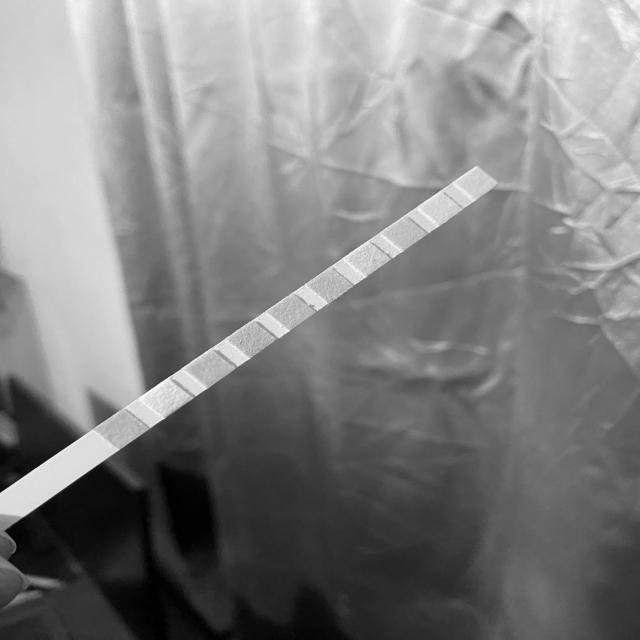Bilirubin: (150, 389, 182, 407)
Blood: (274, 305, 307, 320)
Glucose: (105, 420, 138, 438)
Ketone: (195, 360, 225, 377)
Leukocytes: (461, 176, 490, 190)
Nitrite: (425, 200, 454, 214)
Protein: (350, 252, 384, 265)
SpGravity: (235, 331, 267, 347)
Urobilinogen: (388, 227, 419, 240)
background: (0, 0, 640, 640)
pH: (316, 277, 344, 293)
strip: (2, 166, 499, 517)
